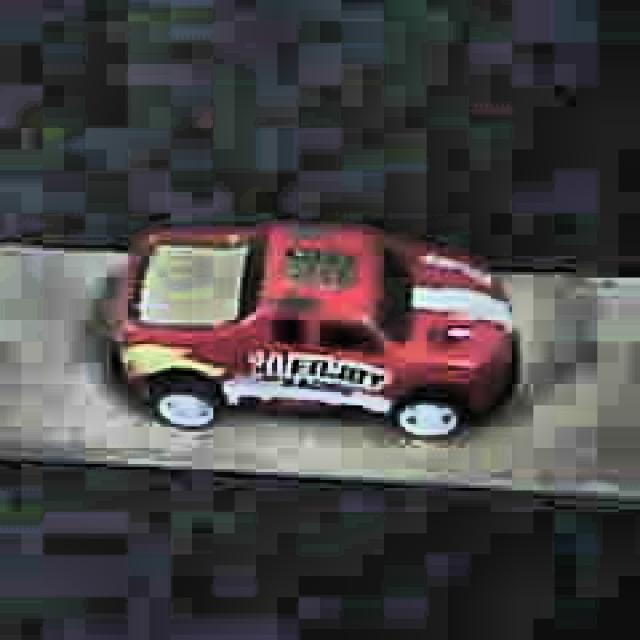car: (108, 216, 518, 443)
